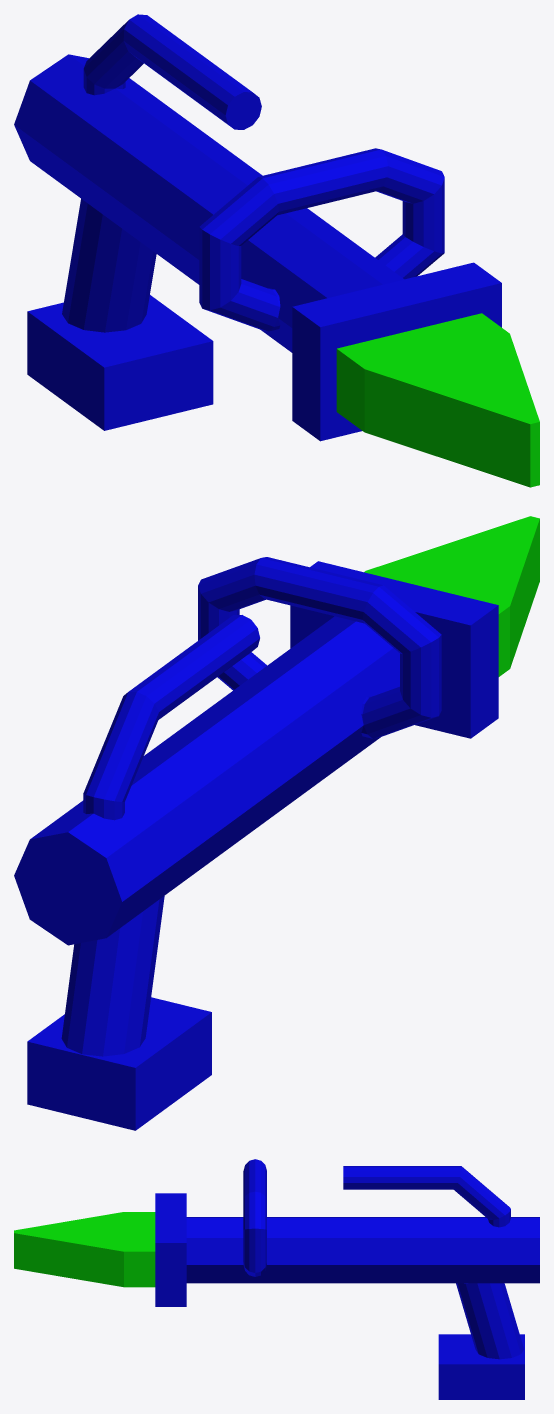
File: R3A_spreader.dae
3 views of the same model, one above another, from view 1: azimuth 30°, elevation 25°; view 2: azimuth 150°, elevation 25°; view 3: azimuth 270°, elevation 25° (orthographic). The views are drawn at different scales.
Parts seen in each view (by area): view 1: Group2, Group5, Group4; view 2: Group2, Group5, Group4, Group1; view 3: Group2, Group4, Group5.
Part boxes in pixels (left/top/right/bottom): Group2: left=14, top=14, right=501, bottom=441; Group5: left=336, top=331, right=534, bottom=487; Group4: left=410, top=313, right=539, bottom=486; Group2: left=14, top=557, right=498, bottom=1130; Group5: left=436, top=517, right=539, bottom=676; Group4: left=364, top=516, right=534, bottom=589; Group1: left=415, top=612, right=470, bottom=738; Group2: left=155, top=1159, right=539, bottom=1399; Group4: left=14, top=1231, right=155, bottom=1287; Group5: left=14, top=1212, right=155, bottom=1231.
Size of the model in its own units: 0.1979 by 0.67 by 0.306.
